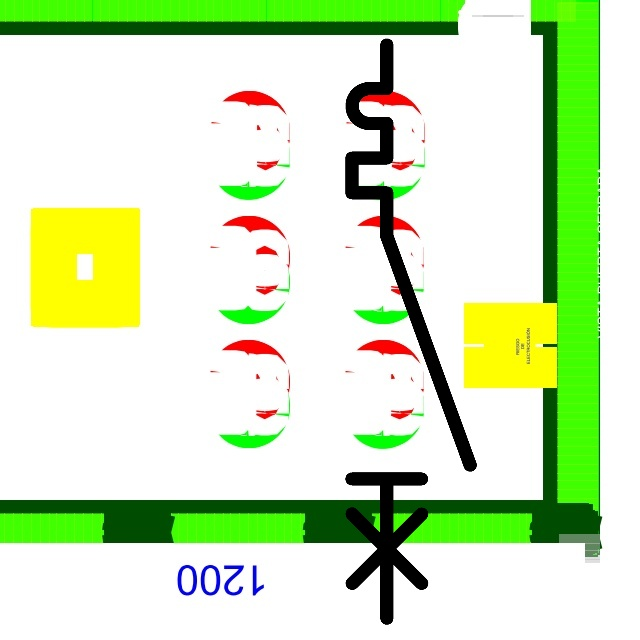interruptor_termomagnetico: (337, 30, 484, 633)
